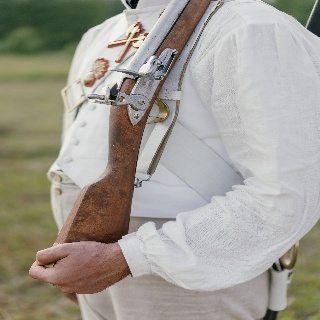rifle: (41, 1, 215, 272)
